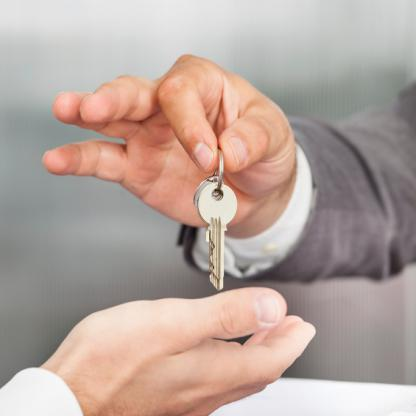keys: (193, 174, 241, 292)
